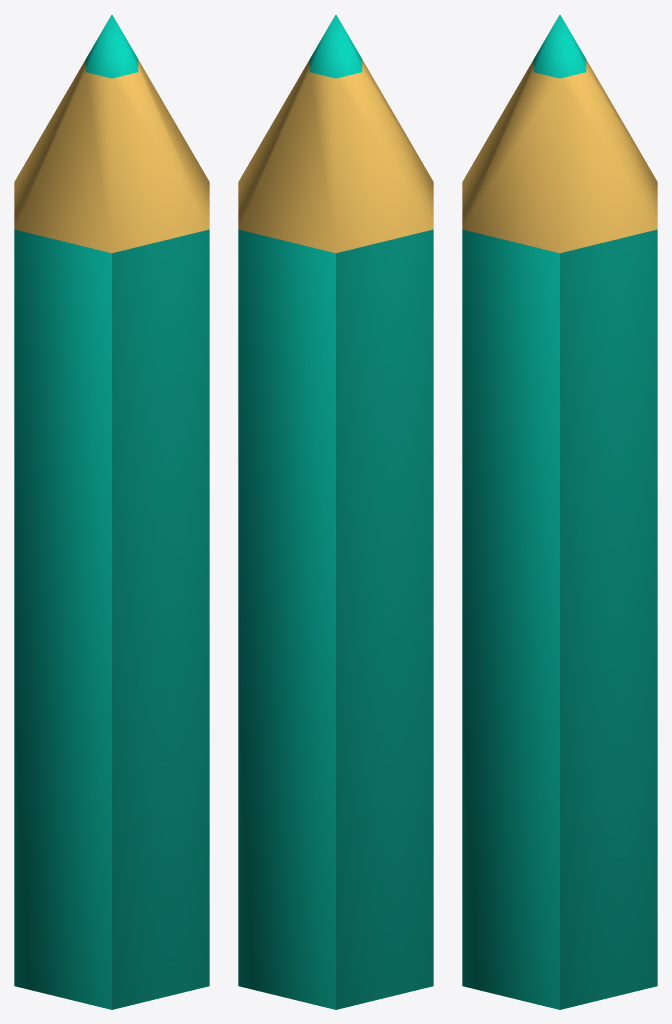
Rendered from SM_Pencil05.fbx.
3 renders of one model, left to right at view 1: azimuth 30°, elevation 25°; view 2: azimuth 150°, elevation 25°; view 3: azimuth 270°, elevation 25°, orthographic.
Parts seen in each view (by area): view 1: SM_Pencil05; view 2: SM_Pencil05; view 3: SM_Pencil05.
Boxes of the visible parts, box(x1,y1,x2,y2) form: SM_Pencil05: box(14, 14, 209, 1009); SM_Pencil05: box(238, 14, 433, 1009); SM_Pencil05: box(462, 14, 657, 1009).
Size of the model in its own units: 8 by 37.15 by 6.93.
